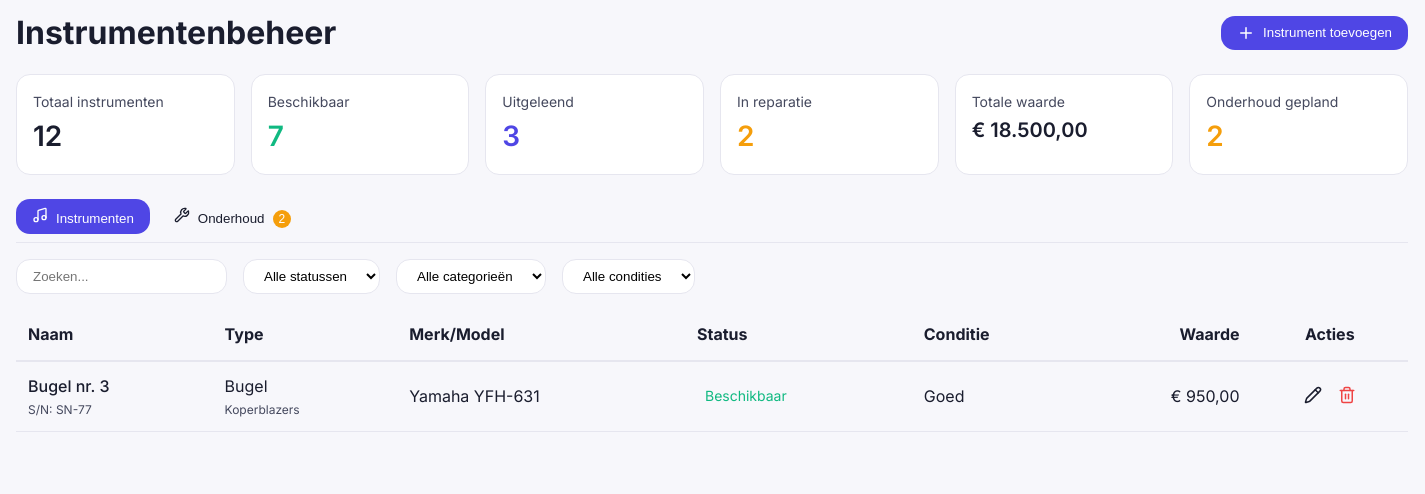
it: instrumenten - het onderhoudstabblad › zet achterstallig onderhoud apart van gepland onderhoud
This screenshot has width=1425, height=494.
Click the button "Onderhoud2" at (232, 217), box [158,199,307,234]
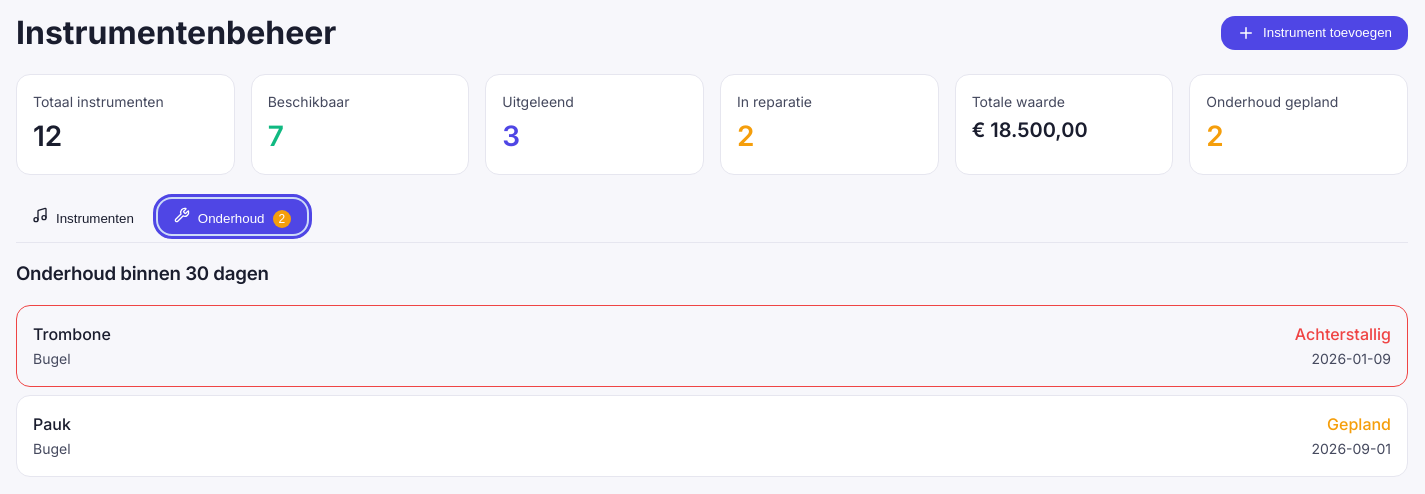
Expected: the text "Achterstallig" is shown, [1295,322,1391,348]
Expected: the text "Gepland" is shown, [1327,414,1391,434]
Expected: the text "2026-01-09" is shown, [1312,350,1391,367]
